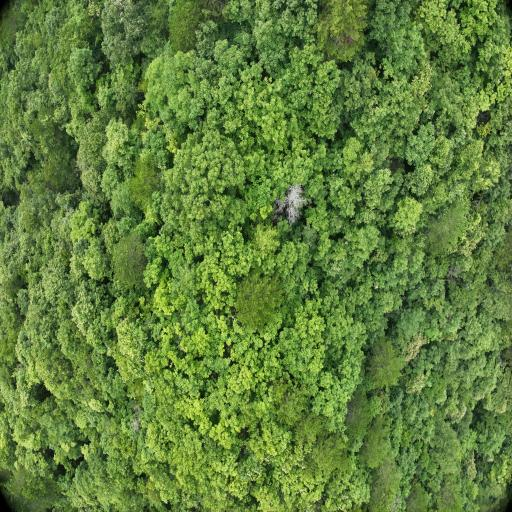dead-tree: (289, 188, 301, 221)
